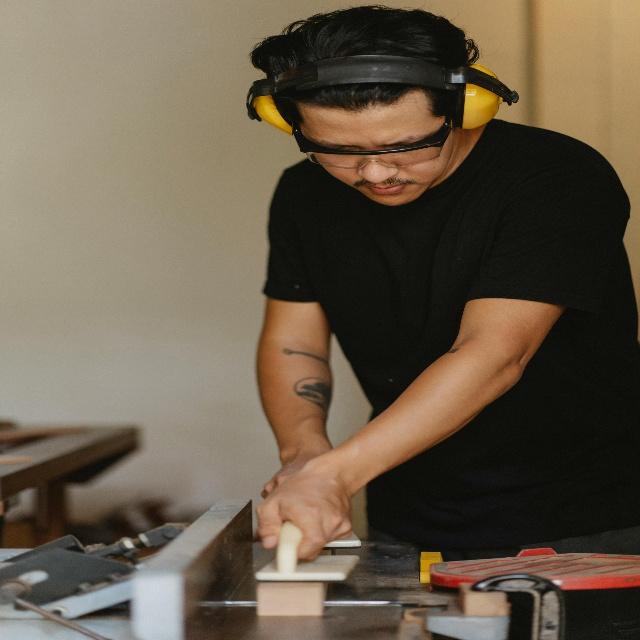Gafas: (293, 110, 454, 169)
Sin_guantes: (255, 458, 354, 561)
